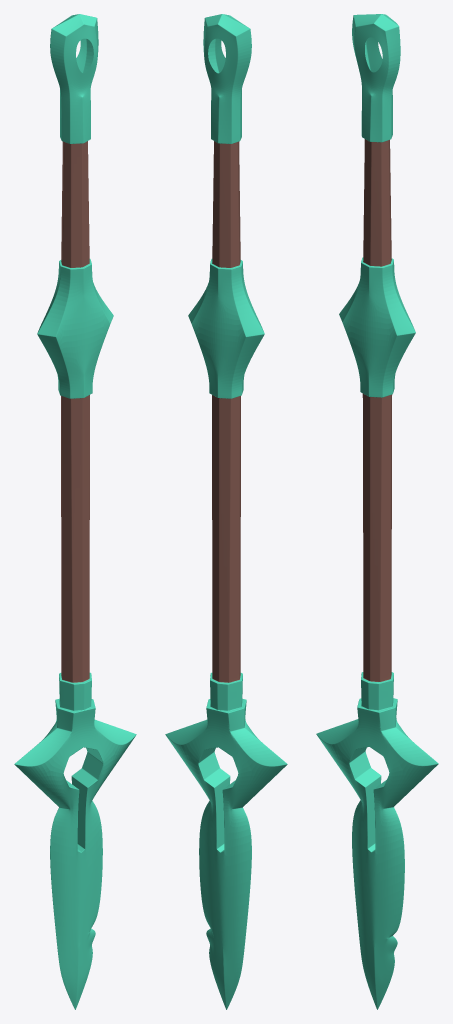
File: Spear_game_smooth.glb
3 views of the same model, side by side, from view 1: azimuth 30°, elevation 25°; view 2: azimuth 150°, elevation 25°; view 3: azimuth 330°, elevation 25° (orthographic).
Parts seen in each view (by area): view 1: Spear; view 2: Spear; view 3: Spear.
Boxes of the visible parts, box(x1,y1,x2,y2) form: Spear: box(14, 14, 136, 1009); Spear: box(165, 14, 287, 1009); Spear: box(316, 14, 438, 1009).
Bounding box in the file's own units: 0.2791 × 2.17 × 0.0732.
